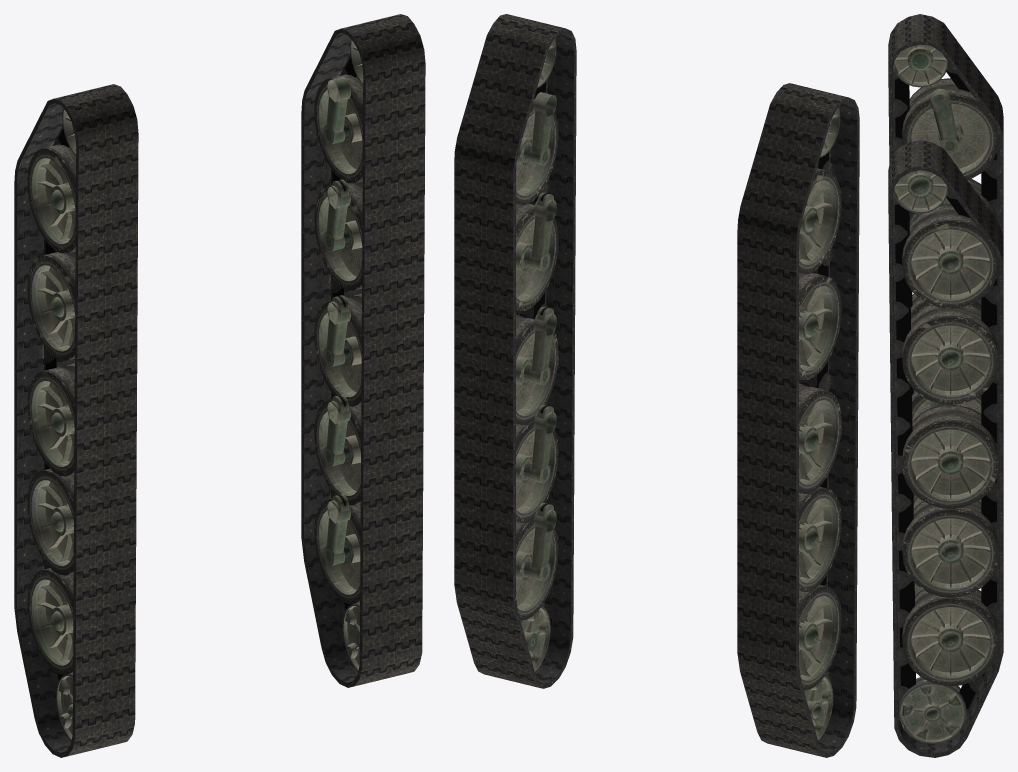
Rendered from Chassis.glb.
3 views of the same model, side by side, from view 1: azimuth 30°, elevation 25°; view 2: azimuth 150°, elevation 25°; view 3: azimuth 270°, elevation 25° (orthographic). The views are drawn at different scales.
Visible parts, largest first — view 1: set_0_group_0, set_1_group_0, set_3_group_0, set_2_group_0; view 2: set_0_group_0, set_1_group_0, set_3_group_0, set_2_group_0; view 3: set_3_group_0, set_1_group_0, set_2_group_0, set_0_group_0.
Boxes of the visible parts, x1,y1,x2,y2 form: set_0_group_0: (14,84,138,757); set_1_group_0: (301,14,425,687); set_3_group_0: (314,39,363,671); set_2_group_0: (27,109,76,740); set_0_group_0: (737,83,859,757); set_1_group_0: (454,14,576,688); set_3_group_0: (516,38,558,671); set_2_group_0: (799,107,841,740); set_3_group_0: (893,170,998,743); set_1_group_0: (888,140,1003,757); set_2_group_0: (893,44,998,595); set_0_group_0: (888,14,1003,394).
Bounding box in the file's own units: 2.9 × 5.26 × 0.9291.
4 materials, 4 textured.
